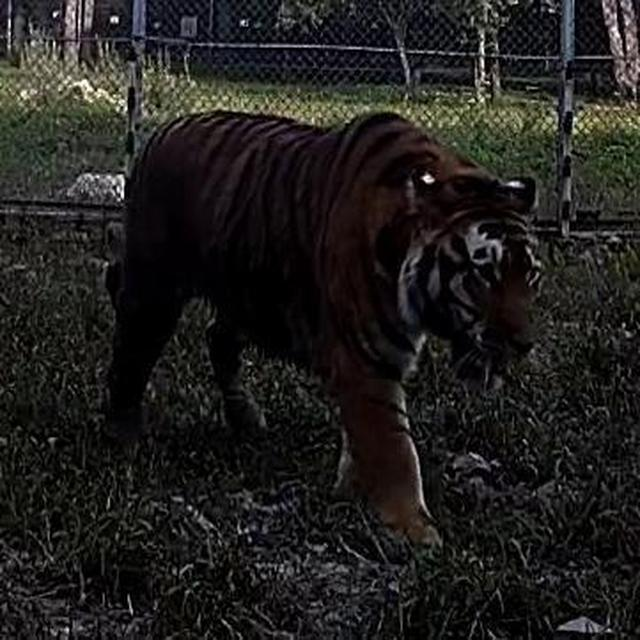tiger: (100, 106, 544, 550)
